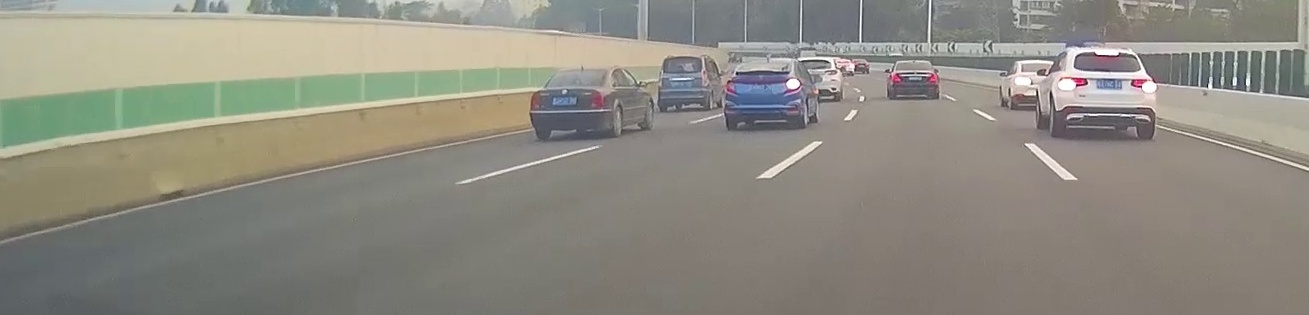L_light: (1057, 78, 1088, 91), (530, 93, 542, 110), (726, 80, 737, 95), (891, 73, 901, 82), (658, 70, 663, 87)
R_light: (1131, 79, 1156, 93), (784, 77, 801, 95), (591, 92, 605, 109), (701, 69, 708, 86), (928, 73, 938, 82)
T_light: (1097, 51, 1118, 55), (575, 71, 586, 74), (911, 62, 919, 65), (680, 57, 690, 59), (760, 62, 770, 64)
day-brake: (1054, 46, 1157, 139)
day-no: (530, 64, 609, 140), (656, 53, 709, 112), (889, 60, 939, 100)
day-right: (724, 61, 804, 130)
